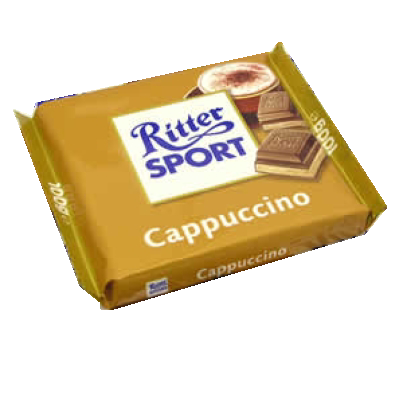grozi_116: (12, 42, 386, 309)
